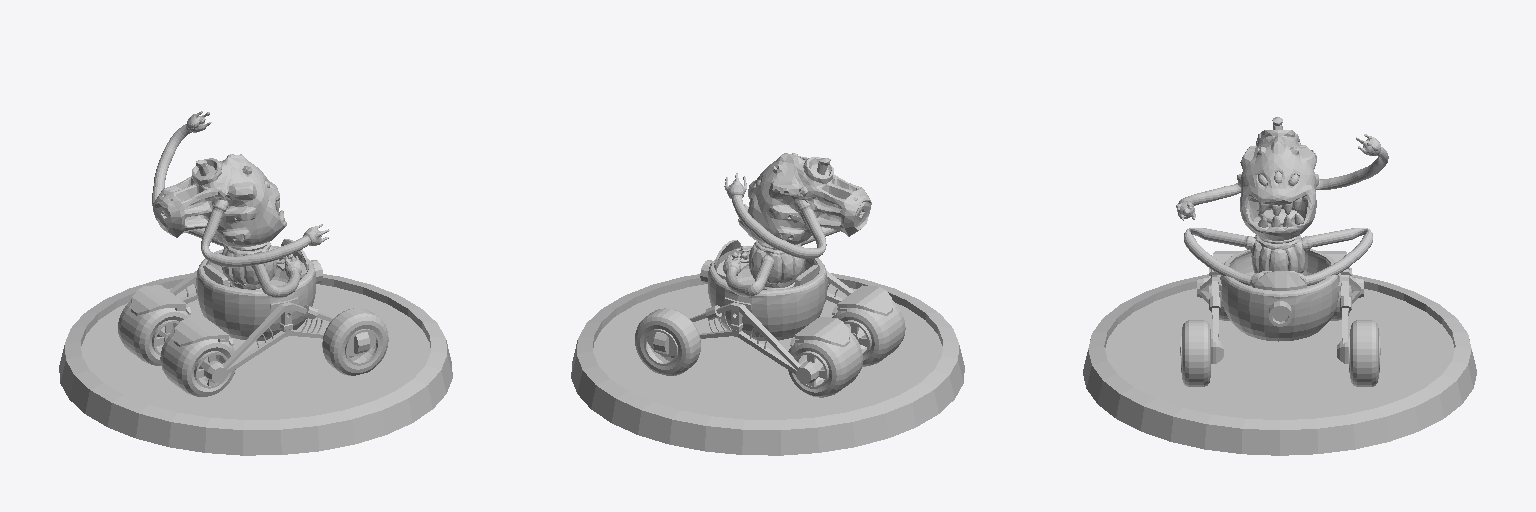
File: selectionoctopus_000009.obj
3 views of the same model, side by side, from view 1: azimuth 30°, elevation 25°; view 2: azimuth 150°, elevation 25°; view 3: azimuth 270°, elevation 25° (orthographic).
Parts seen in each view (by area): view 1: platform_low_platform_low.001, head_low, back_wheel_low, body, arm_up_low_arm_down_low.001, front_wheel_low_front_wheel_low.001, wheelprotection, carmature, body_low, arm_down_low_arm_down_low.000, join_back; view 2: platform_low_platform_low.001, head_low, back_wheel_low, body, front_wheel_low_front_wheel_low.001, wheelprotection, arm_up_low_arm_down_low.001, carmature, body_low, arm_down_low_arm_down_low.000, join_back; view 3: platform_low_platform_low.001, head_low, body, front_wheel_low_front_wheel_low.001, arm_down_low_arm_down_low.000, arm_up_low_arm_down_low.001, body_low, carmature, glass, teeth_low.
Boxes of the visible parts, x1=… form: platform_low_platform_low.001: x1=59, y1=273, x2=452, y2=455; head_low: x1=154, y1=154, x2=286, y2=247; back_wheel_low: x1=118, y1=301, x2=235, y2=396; body: x1=196, y1=246, x2=315, y2=340; arm_up_low_arm_down_low.001: x1=152, y1=111, x2=329, y2=267; front_wheel_low_front_wheel_low.001: x1=322, y1=308, x2=388, y2=375; wheelprotection: x1=131, y1=285, x2=233, y2=346; carmature: x1=170, y1=271, x2=333, y2=374; body_low: x1=221, y1=242, x2=276, y2=289; arm_down_low_arm_down_low.000: x1=186, y1=228, x2=301, y2=297; join_back: x1=157, y1=327, x2=226, y2=383; platform_low_platform_low.001: x1=571, y1=273, x2=964, y2=455; head_low: x1=738, y1=153, x2=871, y2=244; back_wheel_low: x1=788, y1=300, x2=905, y2=397; body: x1=708, y1=257, x2=827, y2=340; front_wheel_low_front_wheel_low.001: x1=635, y1=308, x2=700, y2=375; wheelprotection: x1=790, y1=285, x2=892, y2=346; arm_up_low_arm_down_low.001: x1=724, y1=156, x2=826, y2=258; carmature: x1=690, y1=270, x2=853, y2=374; body_low: x1=749, y1=240, x2=804, y2=289; arm_down_low_arm_down_low.000: x1=723, y1=227, x2=839, y2=296; join_back: x1=796, y1=327, x2=866, y2=383; platform_low_platform_low.001: x1=1083, y1=274, x2=1476, y2=455; head_low: x1=1237, y1=117, x2=1318, y2=240; body: x1=1218, y1=249, x2=1342, y2=341; front_wheel_low_front_wheel_low.001: x1=1181, y1=320, x2=1379, y2=386; arm_down_low_arm_down_low.000: x1=1184, y1=228, x2=1372, y2=287; arm_up_low_arm_down_low.001: x1=1176, y1=134, x2=1388, y2=220; body_low: x1=1251, y1=235, x2=1304, y2=273; carmature: x1=1200, y1=277, x2=1360, y2=343; glass: x1=1255, y1=271, x2=1306, y2=290; teeth_low: x1=1258, y1=198, x2=1303, y2=227.
Size of the model in its own units: 13.87 by 9.03 by 13.87.